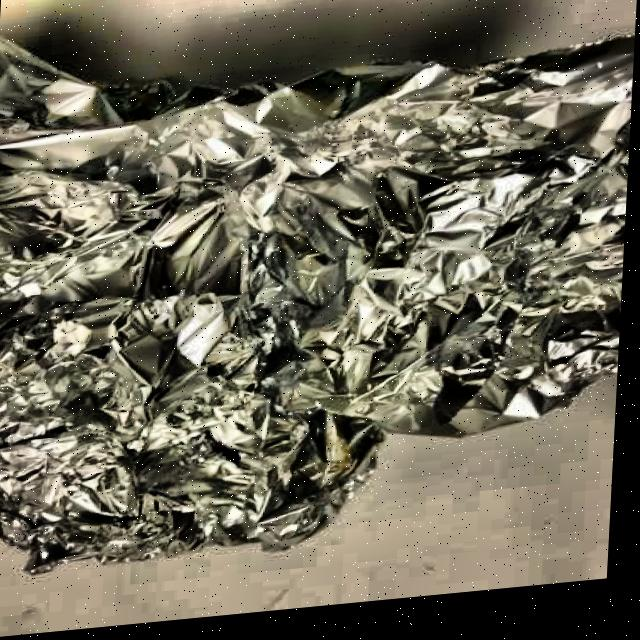metal: (0, 0, 638, 586)
